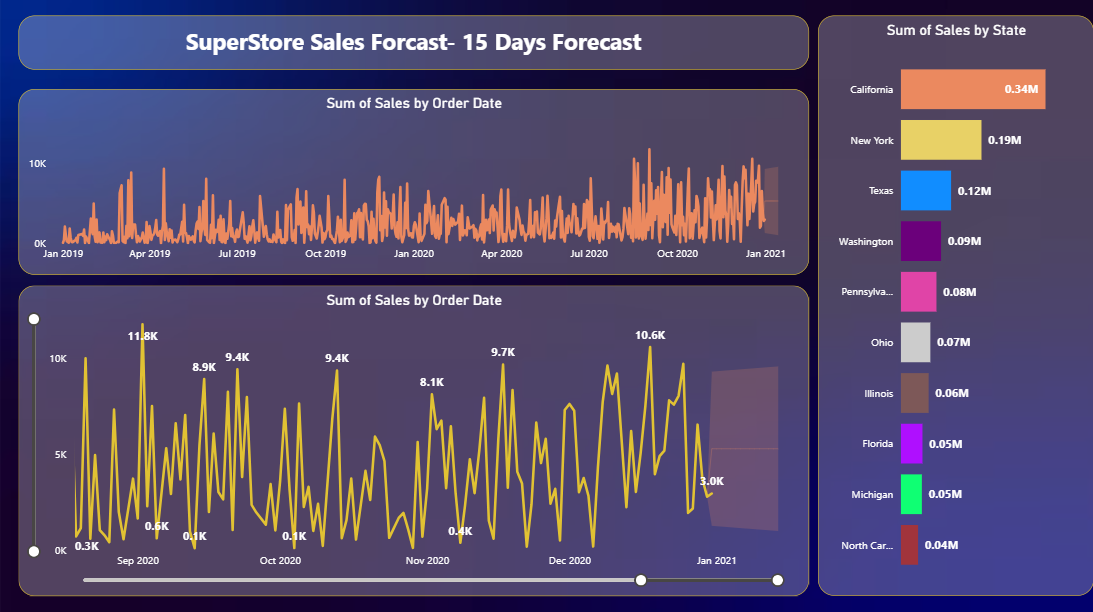

The page's visual inventory and layout, read from the dashboard file:
{"tool":"powerbi","page":{"name":"Page 2","canvas":[1280,720],"ordinal":1},"visuals":[{"type":"lineChart","fields":{"Y":["Sum(SuperStore Sales DataSet (3).Sales)"],"Category":["SuperStore Sales DataSet (3).Order Date"]},"box":[22.8,105.3,924.6,217.5],"z":0},{"type":"lineChart","fields":{"Y":["Sum(SuperStore Sales DataSet (3).Sales)"],"Category":["SuperStore Sales DataSet (3).Order Date"]},"box":[22.8,335.1,924.6,363.2],"z":1000},{"type":"clusteredBarChart","fields":{"Category":["SuperStore Sales DataSet (3).State"],"Y":["Sum(SuperStore Sales DataSet (3).Sales)"]},"box":[957.9,19.3,322.8,678.9],"z":1001},{"type":"textbox","box":[22.8,19.3,924.6,63.2],"z":1002}]}

Visuals, with their boxes in screenshot pixels (x1, y1, x2, y2), scaled from the page's 1280x720 canvas onto the 1093x612 screenshot:
lineChart - Sum(SuperStore Sales DataSet (3).Sales) x SuperStore Sales DataSet (3).Order Date: 19,90,809,274
lineChart - Sum(SuperStore Sales DataSet (3).Sales) x SuperStore Sales DataSet (3).Order Date: 19,285,809,594
clusteredBarChart - SuperStore Sales DataSet (3).State x Sum(SuperStore Sales DataSet (3).Sales): 818,16,1092,593
textbox: 19,16,809,70
